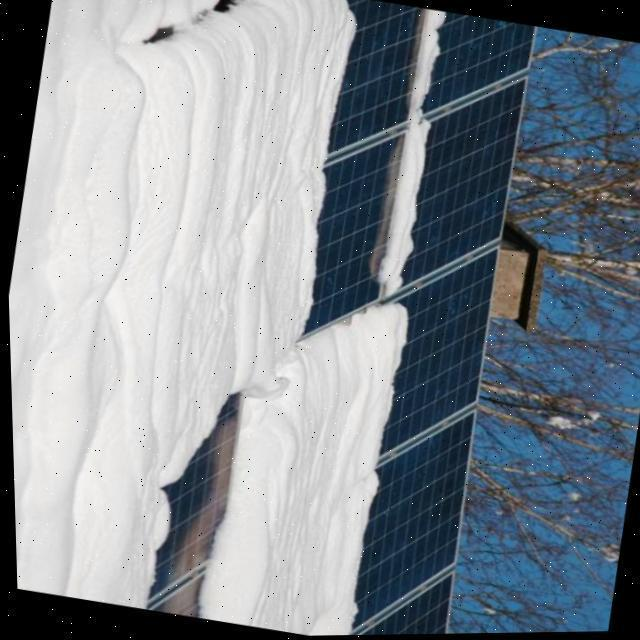Anomaly Solar Panel: (7, 0, 535, 637), (382, 63, 526, 318), (410, 9, 535, 140)
Snow: (7, 0, 358, 629), (187, 283, 403, 637), (374, 116, 441, 303), (403, 8, 449, 124)
